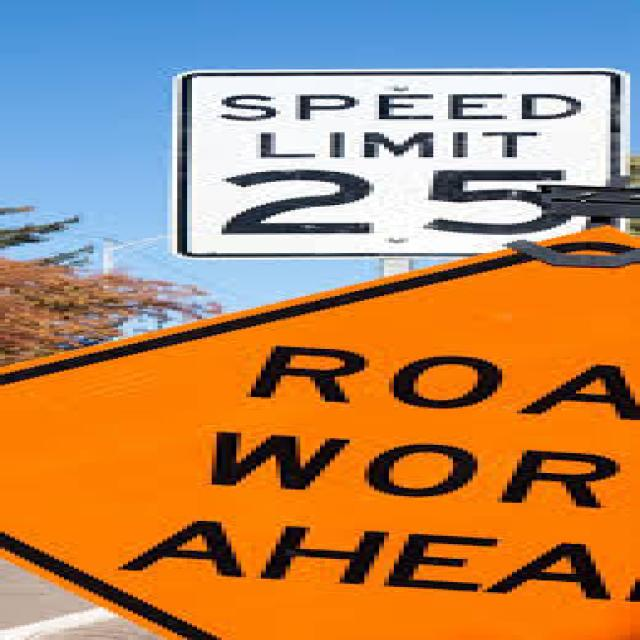speedLimit25: (168, 61, 620, 261)
